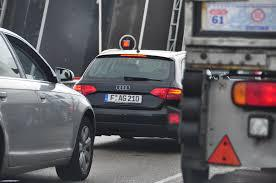0: (135, 95, 140, 102)
1: (132, 95, 135, 101)
2: (127, 95, 132, 101)
A: (118, 94, 122, 102)
F: (110, 94, 114, 101)
G: (122, 95, 126, 102)
